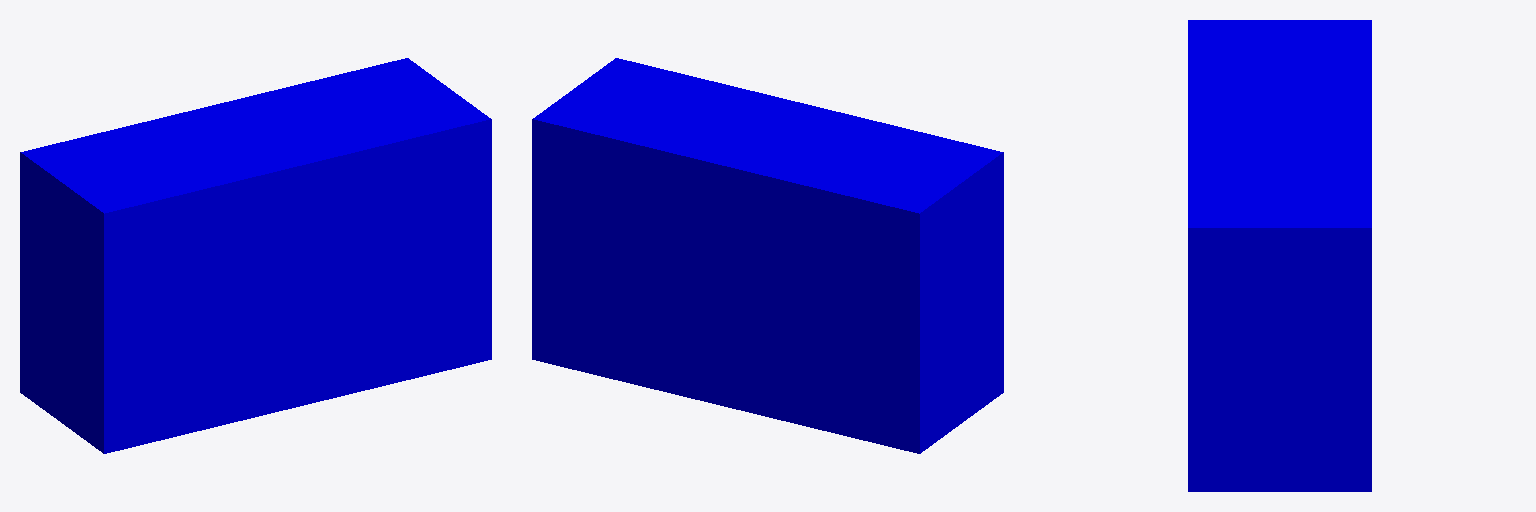
robot.urdf — box.urdf:
<?xml version="0.0" ?>
<robot name="box.urdf">
  <link name="baseLink">
    <contact>
      <lateral_friction value="0.5"/>
      <rolling_friction value="0.0"/>
      <contact_cfm value="0.0"/>
      <contact_erp value="1.0"/>
    </contact>
    <inertial>
      <origin rpy="0 0 0" xyz="0 0 0"/>
       <mass value=".01"/>
       <inertia ixx="1" ixy="0" ixz="0" iyy="1" iyz="0" izz="1"/>
    </inertial>
    <visual>
      <origin rpy="0 0 0" xyz="0 0 0"/>
      <geometry>
				<mesh filename="box.obj" scale="0.16 0.06 0.095"/>
      </geometry>
       <material name="white">
        <color rgba="0 0 1 1"/>
      </material>
    </visual>
    <collision>
      <origin rpy="0 0 0" xyz="0 0 0"/>
      <geometry>
	 	<box size="0.16 0.06 0.095"/>
      </geometry>
    </collision>
  </link>
</robot>

--- Facts derived from the render (not from the file) ---
3 views of the same robot in one strip: view 1: azimuth 30°, elevation 25°; view 2: azimuth 150°, elevation 25°; view 3: azimuth 270°, elevation 25° (orthographic).
Robot: box.urdf — 1 links, 0 joints (none); root link baseLink; default pose: all joints at 0.
Links seen in each view (by area): view 1: baseLink; view 2: baseLink; view 3: baseLink.
Link boxes in pixels (<box>): baseLink: <box>20,58,491,453</box>; baseLink: <box>532,58,1003,453</box>; baseLink: <box>1188,20,1371,491</box>.
Size in the robot's own frame: 0.16 by 0.06 by 0.095 metres.
Meshes: 1 distinct files referenced, 1 mesh visuals loaded (1 OBJ).